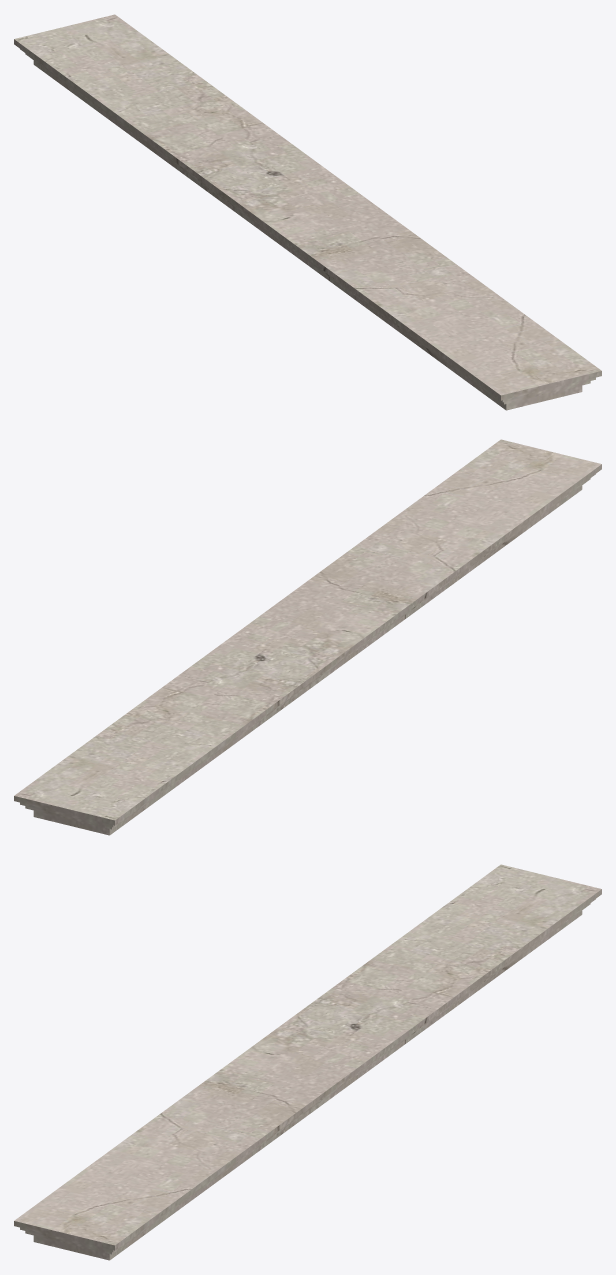
The model's file is pasted__marble_tile_151.fbx.
3 renders of one model, top to bottom at view 1: azimuth 30°, elevation 25°; view 2: azimuth 150°, elevation 25°; view 3: azimuth 330°, elevation 25°, orthographic.
Parts seen in each view (by area): view 1: pasted__marble_tile_151; view 2: pasted__marble_tile_151; view 3: pasted__marble_tile_151.
Boxes of the visible parts, x1,y1,x2,y2 form: pasted__marble_tile_151: (14, 14, 601, 410); pasted__marble_tile_151: (14, 439, 601, 835); pasted__marble_tile_151: (14, 864, 601, 1260).
Size of the model in its own units: 25.43 by 212 by 5.61.
